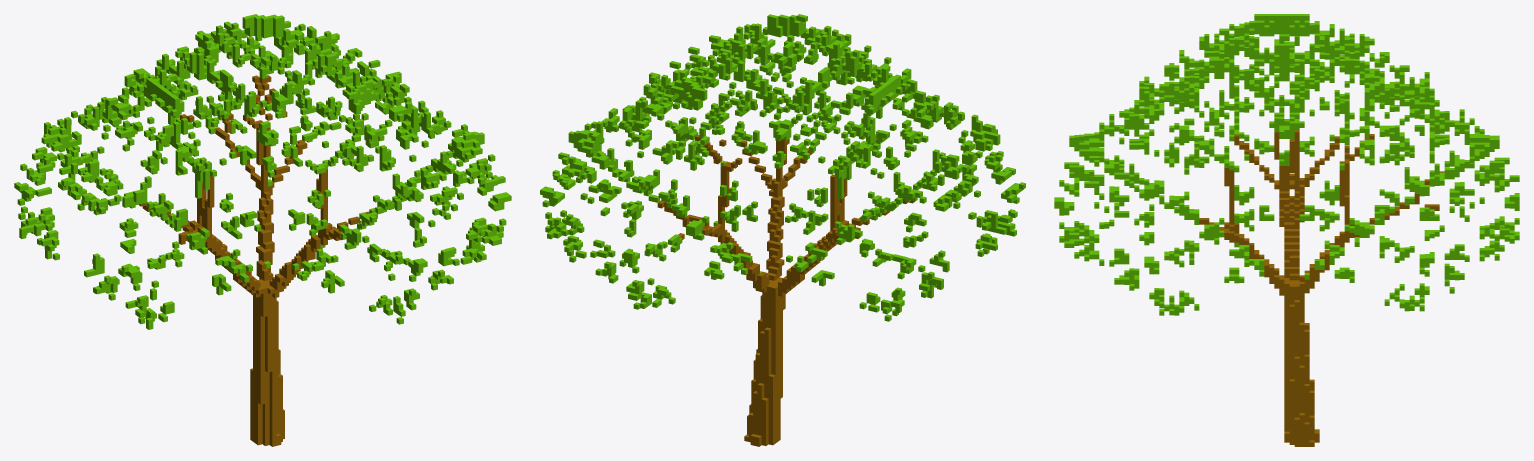
Rendered from Tree_test.fbx.
3 renders of one model, left to right at view 1: azimuth 30°, elevation 25°; view 2: azimuth 150°, elevation 25°; view 3: azimuth 270°, elevation 25°, orthographic. The views are drawn at different scales.
Parts seen in each view (by area): view 1: Untitled; view 2: Untitled; view 3: Untitled.
Part boxes in pixels (x1,y1,x2,y2): Untitled: [14, 14, 511, 446]; Untitled: [540, 14, 1025, 446]; Untitled: [1054, 14, 1519, 446].
Bounding box in the file's own units: 8.6 × 8.2 × 9.3.
Materials: 1 (1 with a texture image).
